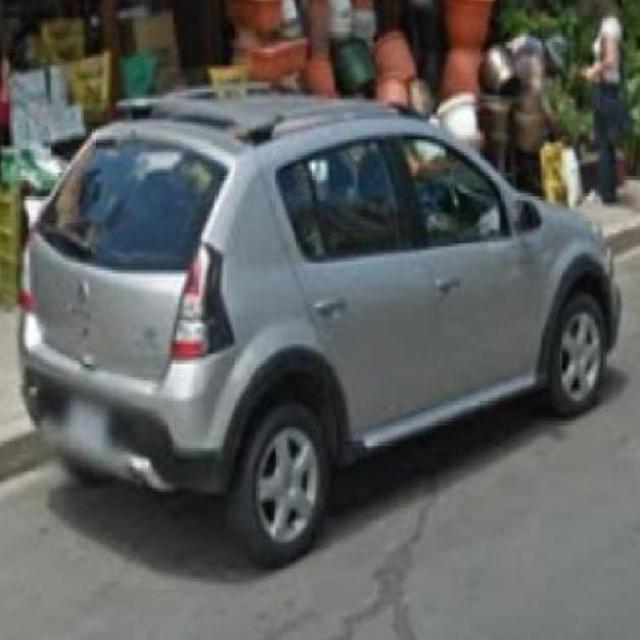car: (18, 99, 620, 554)
